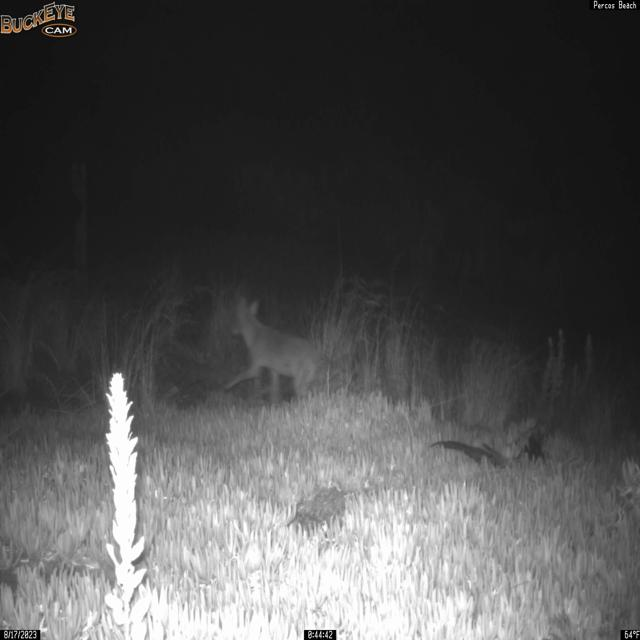coyote: (222, 295, 327, 405)
